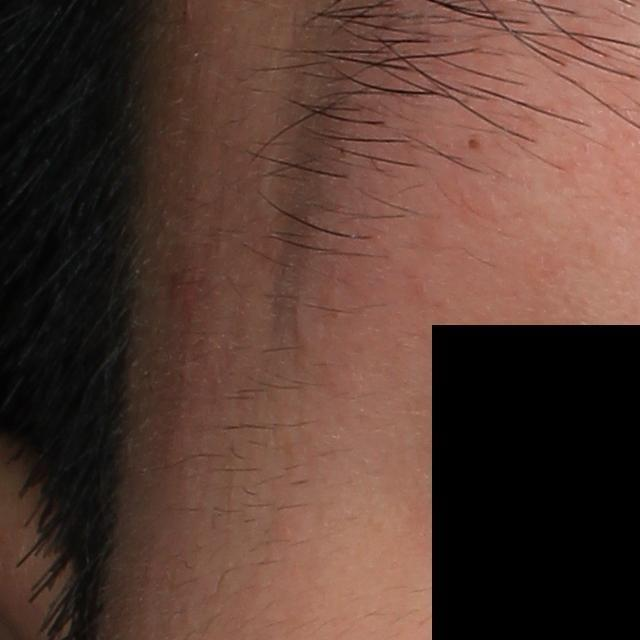nevus: (466, 137, 483, 151)
